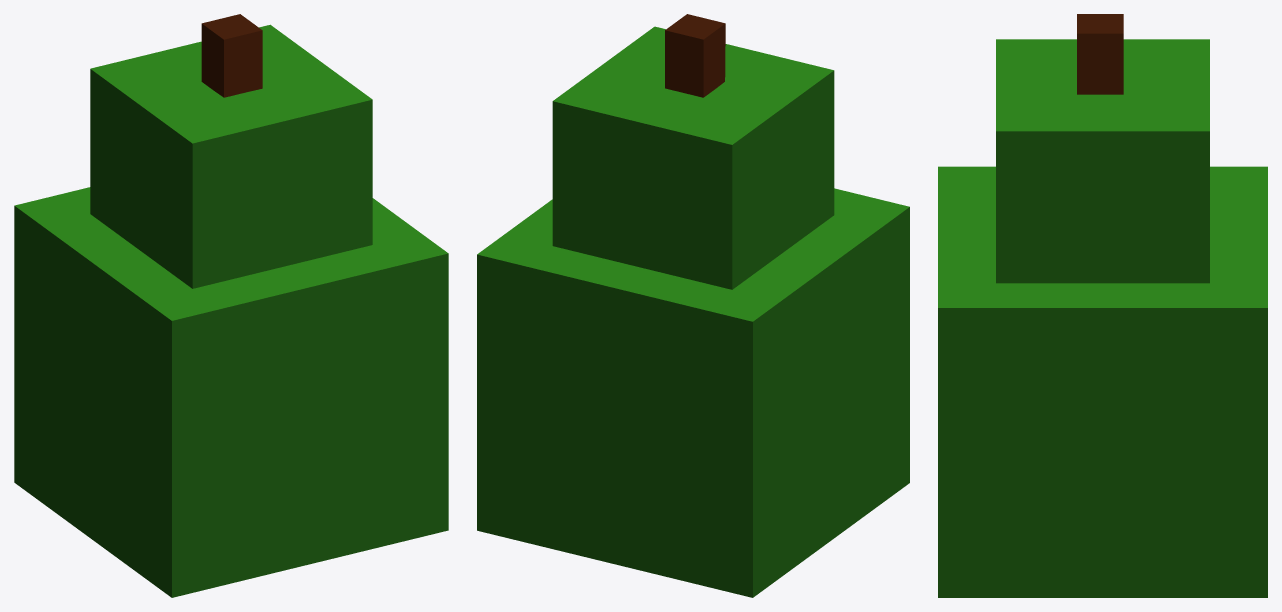
Rendered from Pear.FBX.
3 views of the same model, side by side, from view 1: azimuth 30°, elevation 25°; view 2: azimuth 150°, elevation 25°; view 3: azimuth 270°, elevation 25° (orthographic). The views are drawn at different scales.
Visible parts, largest first — view 1: Object005; view 2: Object005; view 3: Object005.
Boxes of the visible parts, box(x1,y1,x2,y2) form: Object005: box(14, 14, 448, 597); Object005: box(477, 14, 909, 597); Object005: box(938, 14, 1267, 597).
Size of the model in its own units: 35.81 by 59.45 by 35.33.
